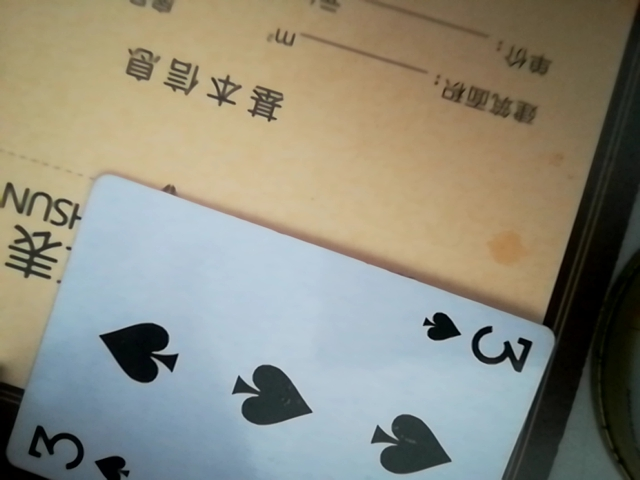ht 3: (8, 179, 559, 480)
